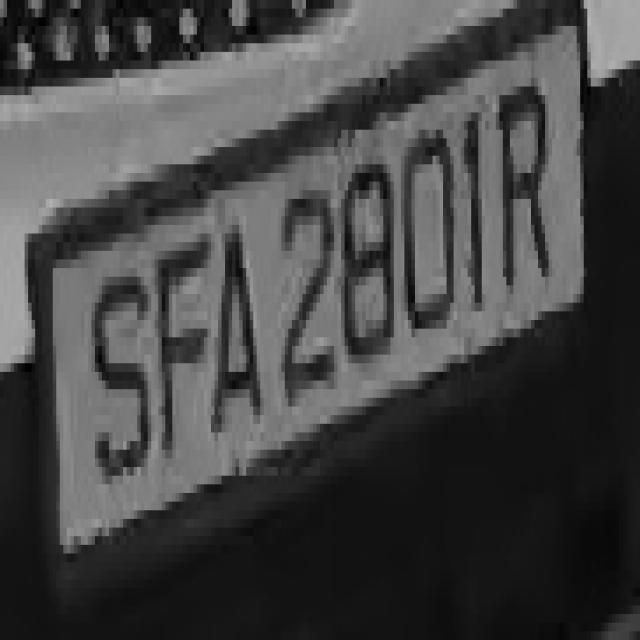0: (398, 112, 458, 346)
1: (461, 43, 488, 355)
2: (274, 138, 341, 424)
8: (330, 121, 401, 389)
A: (204, 190, 264, 450)
F: (154, 199, 222, 493)
R: (492, 52, 556, 320)
S: (85, 225, 152, 484)
